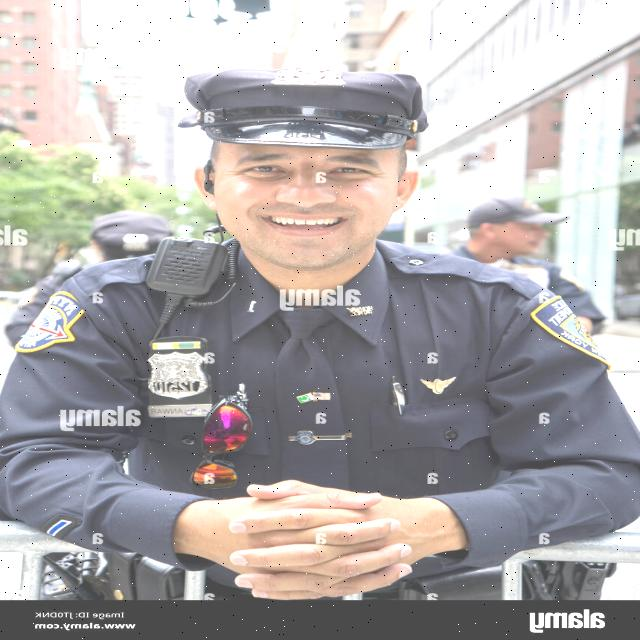police: (9, 29, 622, 596)
